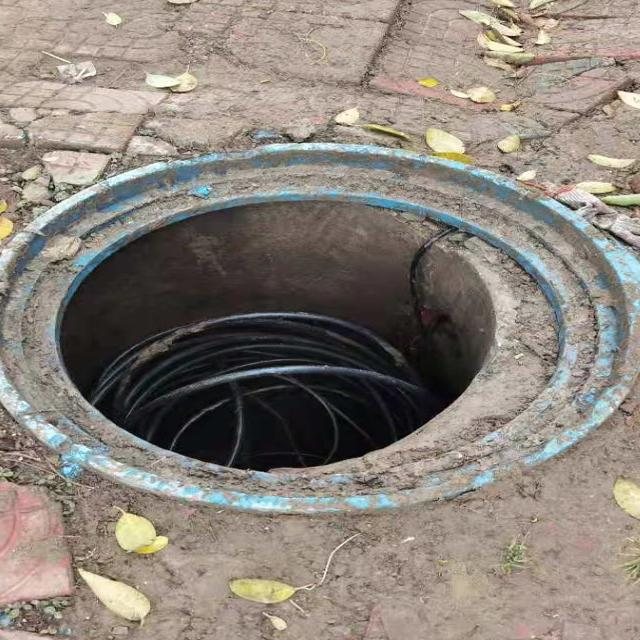lose: (0, 137, 640, 505)
